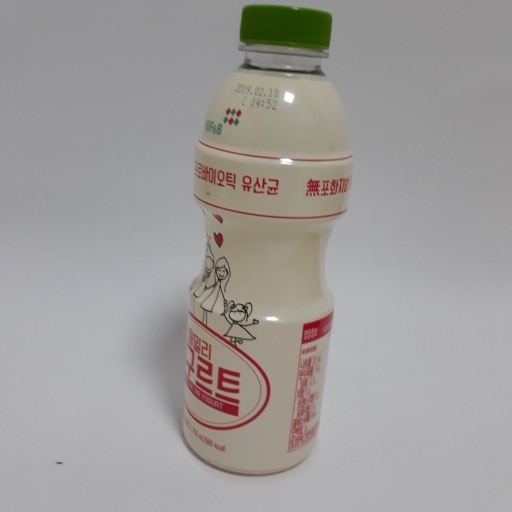Plastic_0: (178, 7, 355, 477)
